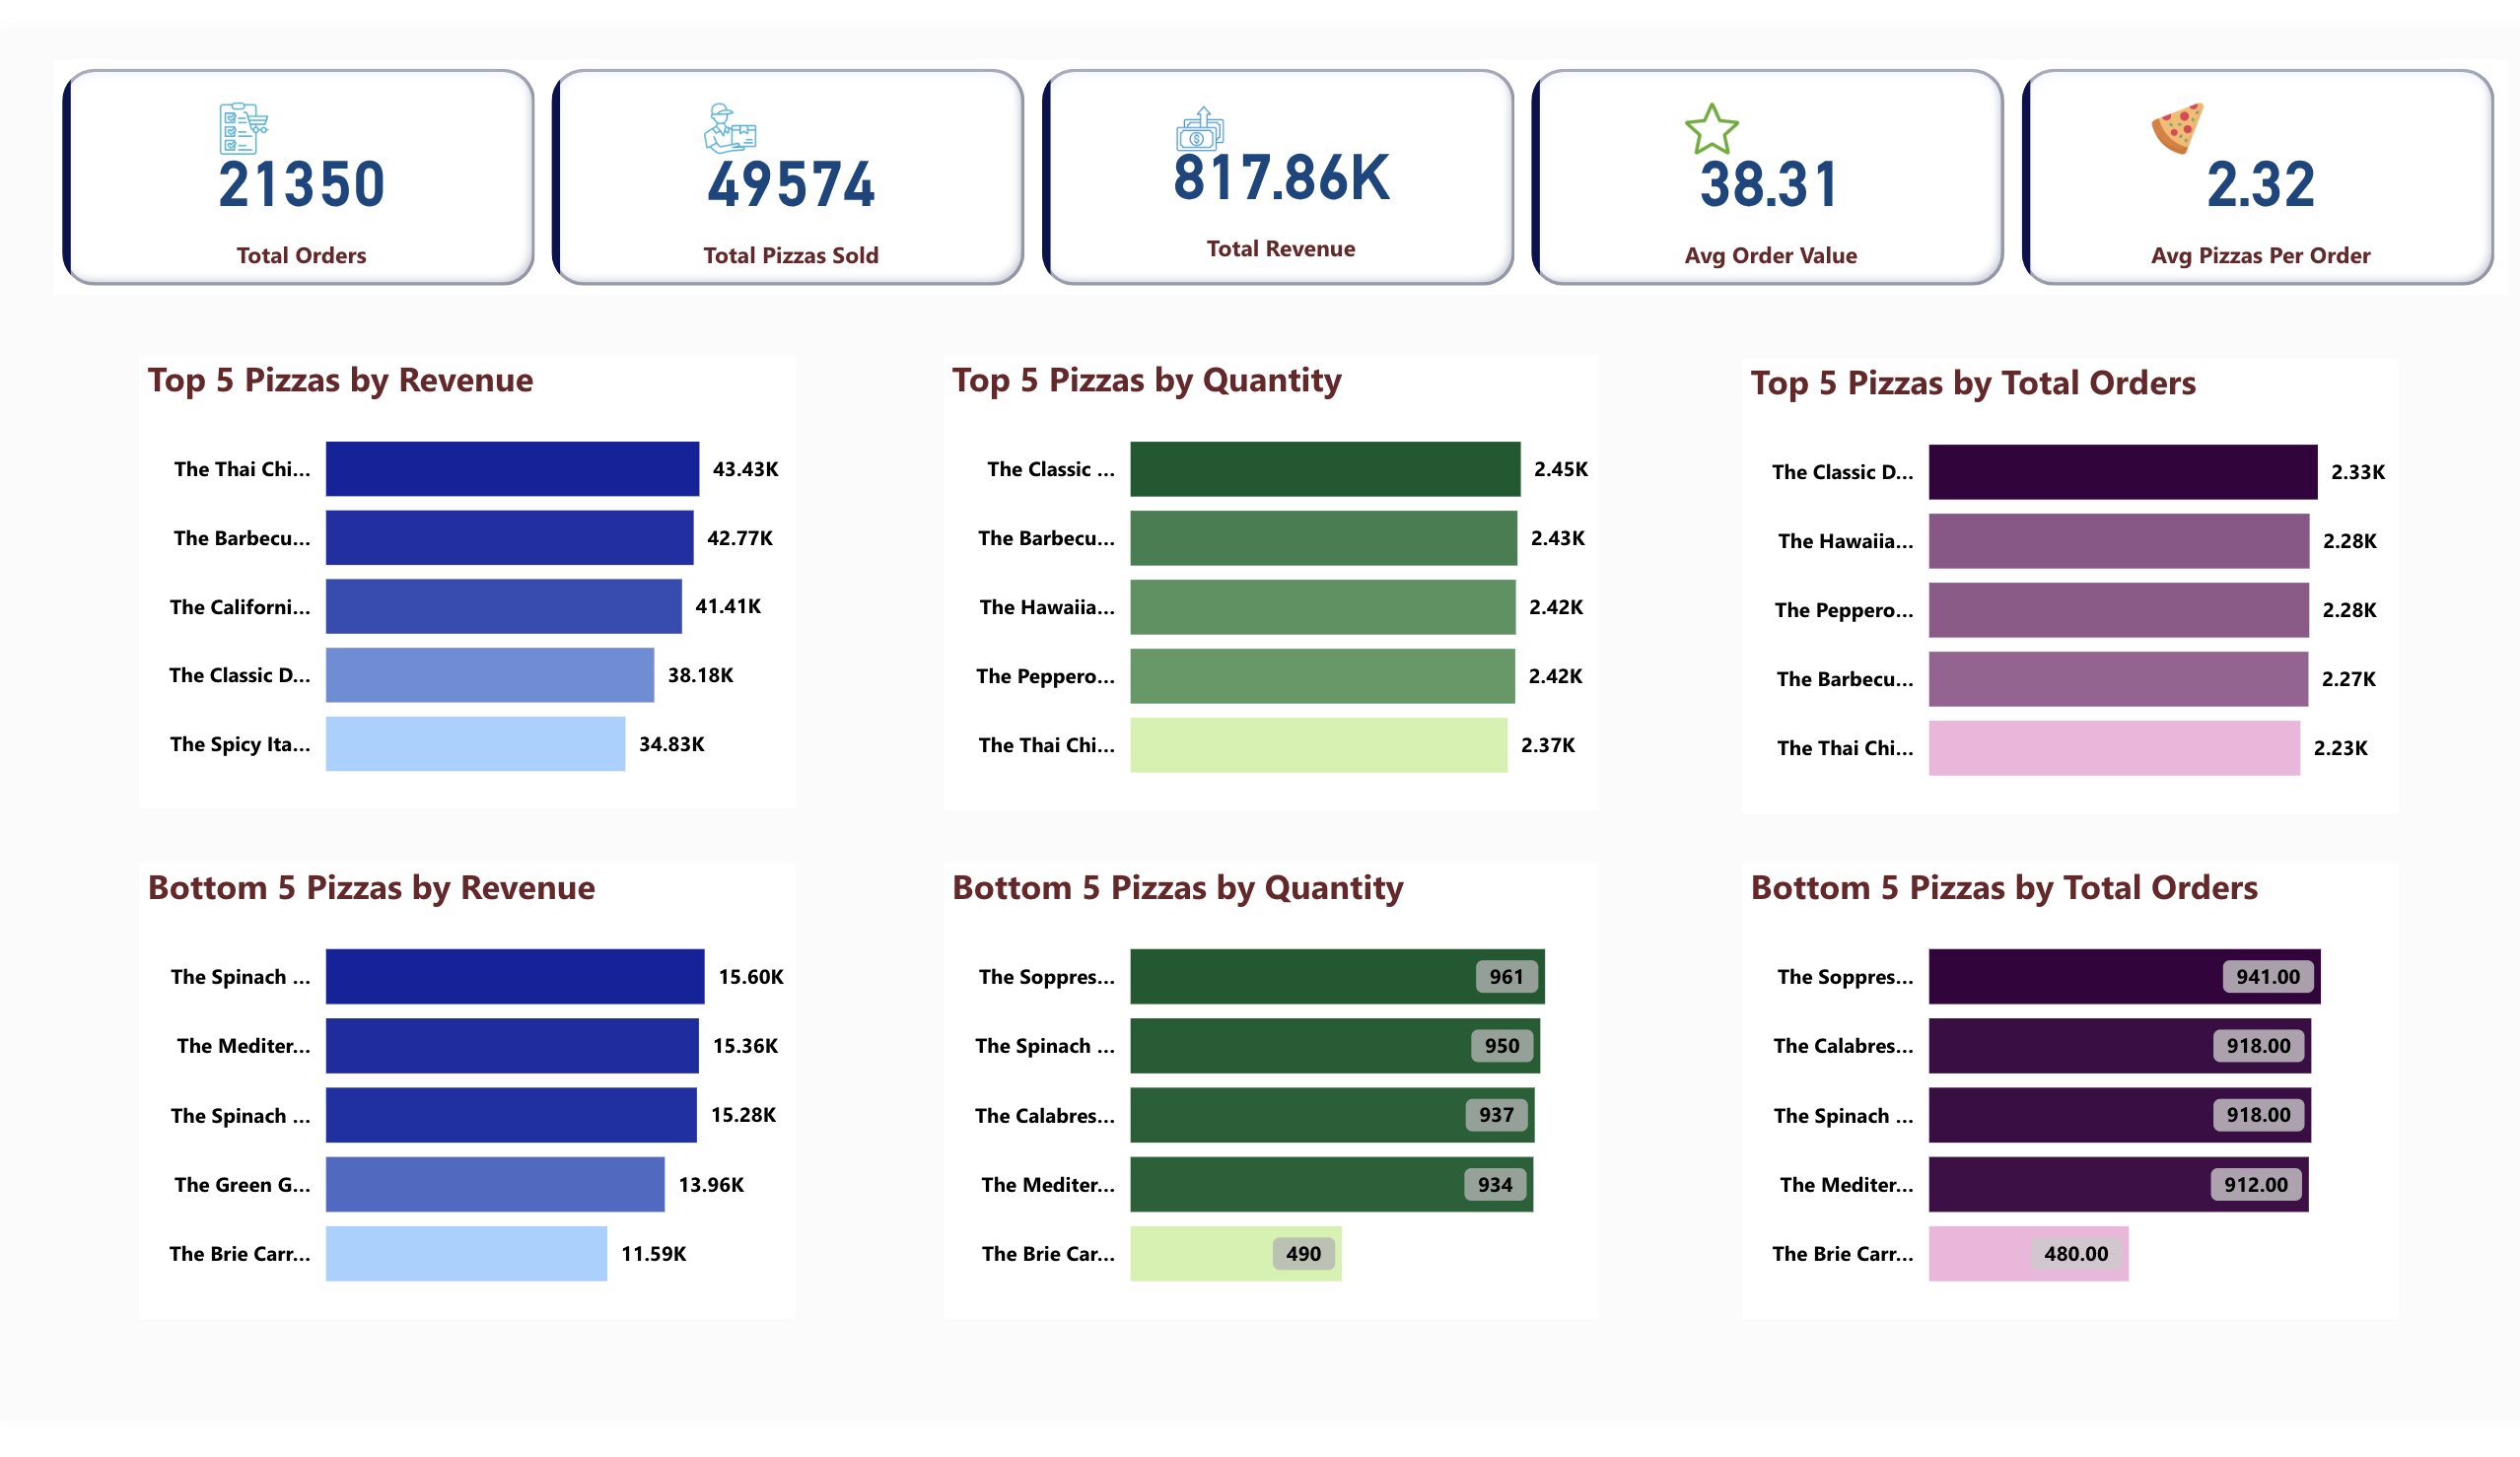

The page's visual inventory and layout, read from the dashboard file:
{"tool":"powerbi","page":{"name":"Pizza Sales Revenue","canvas":[1500,820],"ordinal":1},"visuals":[{"type":"cardVisual","fields":{"Data":["pizza_sales.Total Orders","pizza_sales.Total Pizzas Sold","pizza_sales.Total Revenue","pizza_sales.Avg Order Value","pizza_sales.Avg Pizzas Per Order"]},"box":[31.6,18.6,1448.3,138.4],"z":0},{"type":"barChart","title":"Top 5 Pizzas by Revenue","fields":{"Category":["pizza_sales.pizza_name"],"Y":["pizza_sales.Total Revenue"]},"box":[81.8,193.2,387.4,267.6],"z":17000},{"type":"barChart","title":"Bottom 5 Pizzas by Revenue","fields":{"Category":["pizza_sales.pizza_name"],"Y":["pizza_sales.Total Revenue"]},"box":[81.8,492.4,387.4,269.4],"z":18000},{"type":"barChart","title":"Top 5 Pizzas by Quantity","fields":{"Category":["pizza_sales.pizza_name"],"Y":["pizza_sales.Total Pizzas Sold"]},"box":[556.5,193.2,386.5,268.5],"z":19000},{"type":"barChart","title":"Bottom 5 Pizzas by Quantity","fields":{"Category":["pizza_sales.pizza_name"],"Y":["pizza_sales.Total Pizzas Sold"]},"box":[556.5,492.4,386.5,269.4],"z":20000},{"type":"barChart","title":"Top 5 Pizzas by Total Orders","fields":{"Category":["pizza_sales.pizza_name"],"Y":["pizza_sales.Total Orders"]},"box":[1027.5,194.2,387.4,268.5],"z":21000},{"type":"barChart","title":"Bottom 5 Pizzas by Total Orders","fields":{"Category":["pizza_sales.pizza_name"],"Y":["pizza_sales.Total Orders"]},"box":[1027.5,492.4,387.4,269.4],"z":22000}]}

Visuals, with their boxes on the page's 1500x820 design canvas (x1, y1, x2, y2). These are canvas units, not pixel positions in the 2520x1457 screenshot, which may show the page scaled, cropped or inside an application window:
cardVisual - pizza_sales.Total Orders x pizza_sales.Total Pizzas Sold: x1=32, y1=19, x2=1480, y2=157
"Top 5 Pizzas by Revenue" barChart: x1=82, y1=193, x2=469, y2=461
"Bottom 5 Pizzas by Revenue" barChart: x1=82, y1=492, x2=469, y2=762
"Top 5 Pizzas by Quantity" barChart: x1=556, y1=193, x2=943, y2=462
"Bottom 5 Pizzas by Quantity" barChart: x1=556, y1=492, x2=943, y2=762
"Top 5 Pizzas by Total Orders" barChart: x1=1028, y1=194, x2=1415, y2=463
"Bottom 5 Pizzas by Total Orders" barChart: x1=1028, y1=492, x2=1415, y2=762
